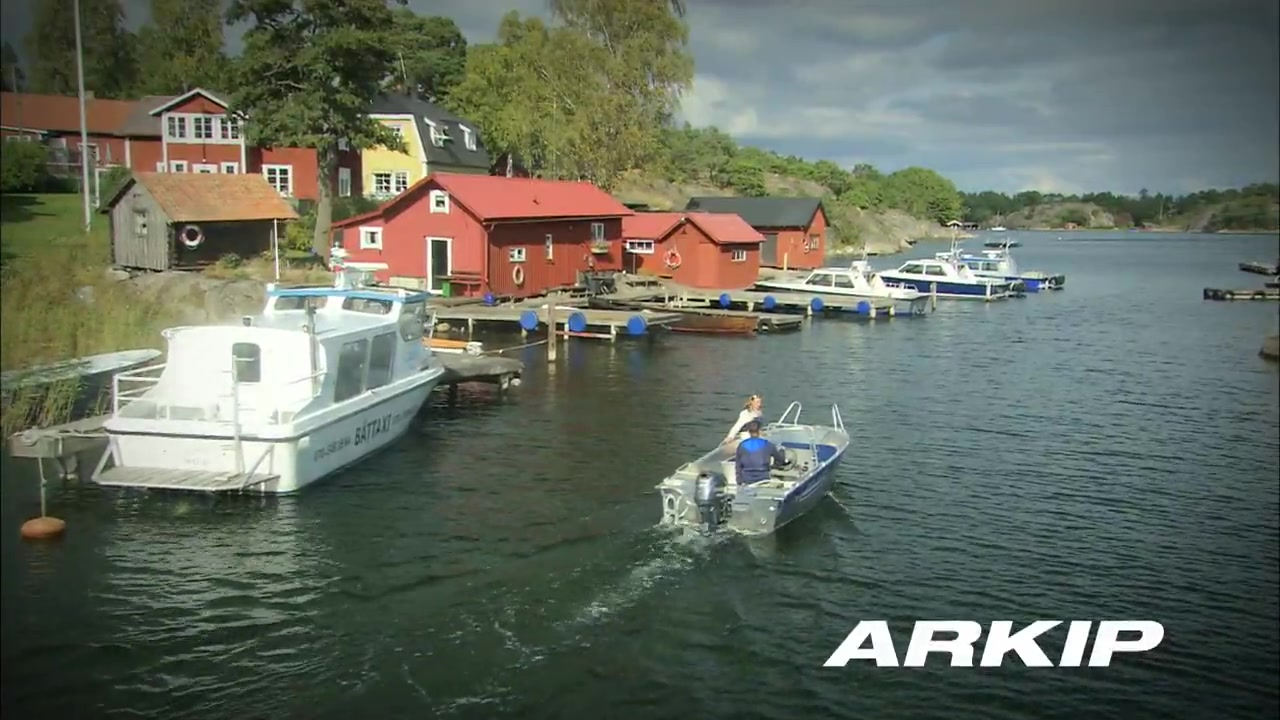boat: (655, 400, 855, 539)
